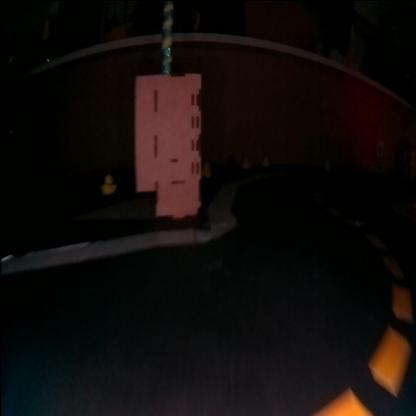Duckie: (100, 172, 114, 194), (204, 160, 212, 176), (242, 155, 251, 167), (262, 155, 270, 161)
